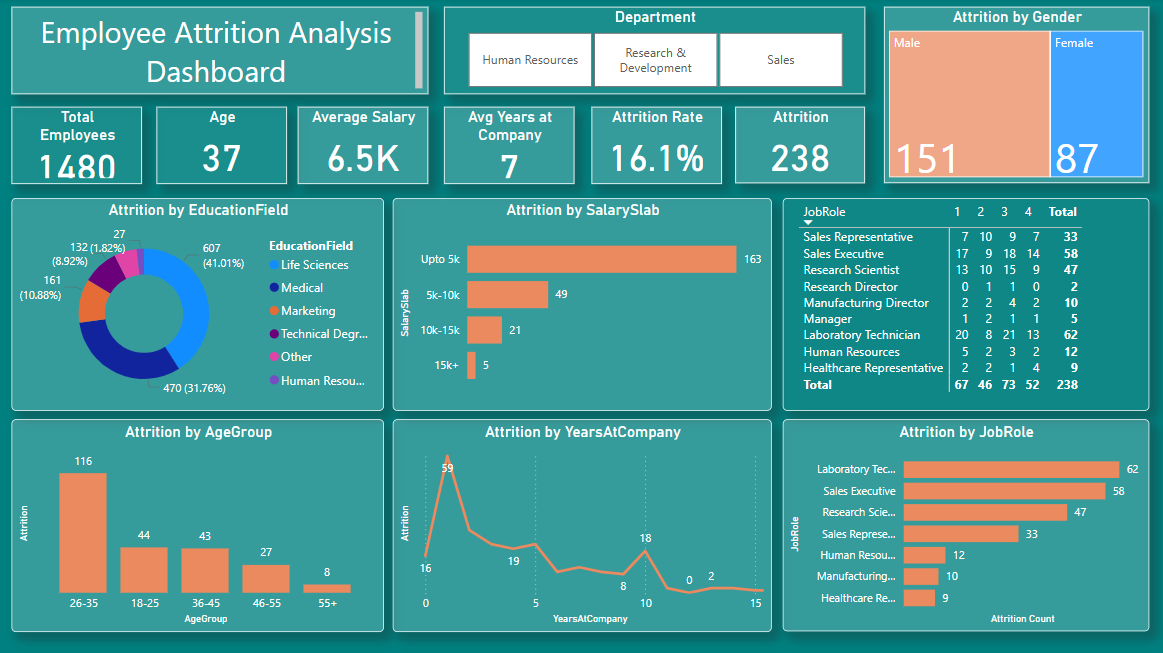

The dashboard page shown, as its layout file describes it:
{"tool":"powerbi","page":{"name":"Page 1","canvas":[1280,720],"ordinal":0},"visuals":[{"type":"textbox","box":[13.8,10,457.5,96.2],"z":0},{"type":"slicer","title":"Department","fields":{"Values":["HR_Analytics.Department"]},"box":[488.5,9.6,462.4,96.1],"z":1000},{"type":"card","title":"Total Employees","fields":{"Values":["CountNonNull(HR_Analytics.EmpID)"]},"box":[13.3,118.9,143.3,84.4],"z":2000},{"type":"card","title":"Age","fields":{"Values":["Avg(HR_Analytics.Age)"]},"box":[172.2,118.9,143.3,84.4],"z":3000},{"type":"card","title":"Average Salary","fields":{"Values":["Avg(HR_Analytics.MonthlyIncome)"]},"box":[327.8,118.9,143.3,84.4],"z":4000},{"type":"card","title":"Avg Years at Company","fields":{"Values":["Avg(HR_Analytics.YearsAtCompany)"]},"box":[488.9,118.9,143.3,84.4],"z":5000},{"type":"card","title":"Attrition Rate","fields":{"Values":["HR_Analytics.AttritionRate"]},"box":[651.1,118.9,143.3,84.4],"z":6000},{"type":"card","title":"Attrition","fields":{"Values":["Sum(HR_Analytics.Attrition Count)"]},"box":[808.2,119.4,142.7,83.7],"z":7000},{"type":"treemap","title":"Attrition by Gender","fields":{"Group":["HR_Analytics.Gender"],"Values":["Sum(HR_Analytics.Attrition Count)"]},"box":[971.5,9.6,290.9,193.5],"z":8000},{"type":"donutChart","title":"Attrition by EducationField","fields":{"Category":["HR_Analytics.EducationField"],"Y":["CountNonNull(HR_Analytics.Attrition)"]},"box":[13.7,219.6,408.9,233.3],"z":9000},{"type":"columnChart","title":"Attrition by AgeGroup","fields":{"Category":["HR_Analytics.AgeGroup"],"Y":["Sum(HR_Analytics.Attrition Count)"]},"box":[13.7,462.4,408.9,233.3],"z":10000},{"type":"barChart","title":"Attrition by SalarySlab","fields":{"Category":["HR_Analytics.SalarySlab"],"Y":["Sum(HR_Analytics.Attrition Count)"]},"box":[432.2,219.6,415.8,233.3],"z":11000},{"type":"lineChart","title":"Attrition by YearsAtCompany","fields":{"Category":["HR_Analytics.YearsAtCompany"],"Y":["Sum(HR_Analytics.Attrition Count)"]},"box":[432.2,462.4,415.8,233.3],"z":12000},{"type":"pivotTable","fields":{"Rows":["HR_Analytics.JobRole"],"Columns":["HR_Analytics.JobSatisfaction"],"Values":["Sum(HR_Analytics.Attrition Count)"]},"box":[860.4,219,402,233.3],"z":13000},{"type":"barChart","title":"Attrition by JobRole","fields":{"Category":["HR_Analytics.JobRole"],"Y":["Sum(HR_Analytics.Attrition Count)"]},"box":[860,462,402,233],"z":14000}]}

Visuals, with their boxes in screenshot pixels (x1, y1, x2, y2), scaled from the page's 1280x720 canvas onto the 1163x653 screenshot:
textbox: <bbox>13, 9, 428, 96</bbox>
"Department" slicer: <bbox>444, 9, 864, 96</bbox>
"Total Employees" card: <bbox>12, 108, 142, 184</bbox>
"Age" card: <bbox>156, 108, 287, 184</bbox>
"Average Salary" card: <bbox>298, 108, 428, 184</bbox>
"Avg Years at Company" card: <bbox>444, 108, 574, 184</bbox>
"Attrition Rate" card: <bbox>592, 108, 722, 184</bbox>
"Attrition" card: <bbox>734, 108, 864, 184</bbox>
"Attrition by Gender" treemap: <bbox>883, 9, 1147, 184</bbox>
"Attrition by EducationField" donutChart: <bbox>12, 199, 384, 411</bbox>
"Attrition by AgeGroup" columnChart: <bbox>12, 419, 384, 631</bbox>
"Attrition by SalarySlab" barChart: <bbox>393, 199, 770, 411</bbox>
"Attrition by YearsAtCompany" lineChart: <bbox>393, 419, 770, 631</bbox>
pivotTable - HR_Analytics.JobRole x HR_Analytics.JobSatisfaction: <bbox>782, 199, 1147, 410</bbox>
"Attrition by JobRole" barChart: <bbox>781, 419, 1147, 630</bbox>
